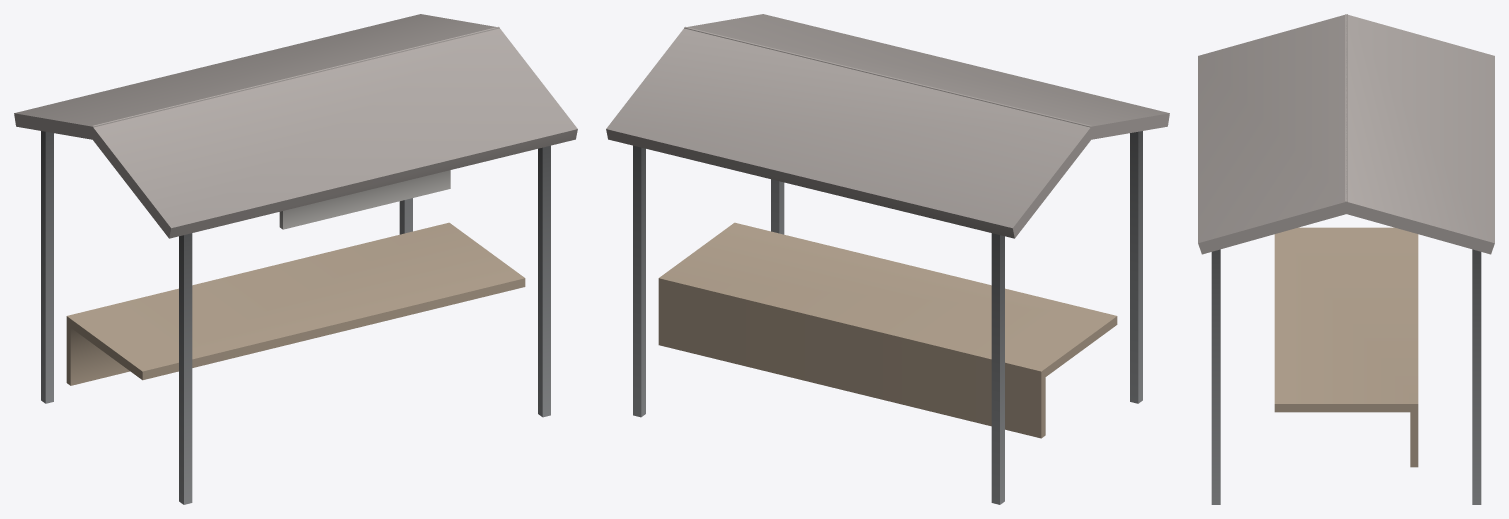
File: market_stall.lod1.glb
3 views of the same model, side by side, from view 1: azimuth 30°, elevation 25°; view 2: azimuth 150°, elevation 25°; view 3: azimuth 270°, elevation 25° (orthographic). The views are drawn at different scales.
Parts seen in each view (by area): view 1: props_market_stall.lod1; view 2: props_market_stall.lod1; view 3: props_market_stall.lod1.
Boxes of the visible parts, x1,y1,x2,y2 form: props_market_stall.lod1: (14, 14, 577, 504); props_market_stall.lod1: (606, 14, 1169, 504); props_market_stall.lod1: (1198, 14, 1494, 504).
Size of the model in its own units: 3.4 by 2.65 by 2.28.
